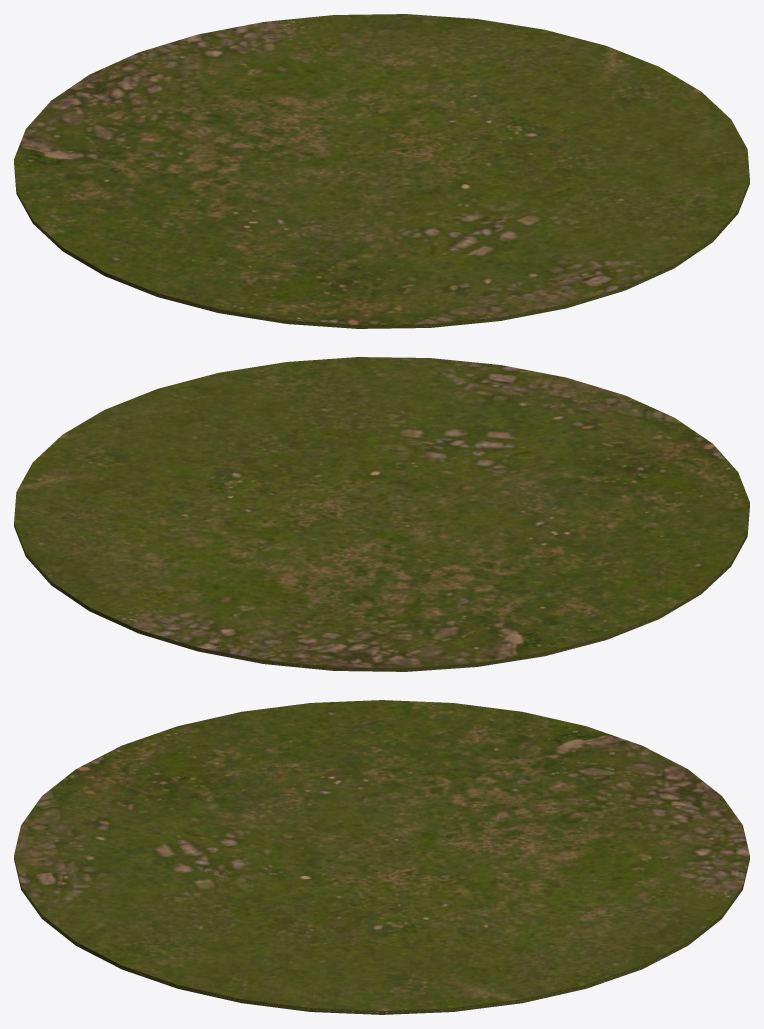
The model's file is Stage2.fbx.
The picture shows the model from 3 angles, top to bottom: view 1: azimuth 30°, elevation 25°; view 2: azimuth 150°, elevation 25°; view 3: azimuth 270°, elevation 25°; orthographic projection.
Visible parts, largest first — view 1: pCylinder3; view 2: pCylinder3; view 3: pCylinder3.
Boxes of the visible parts, x1=… form: pCylinder3: x1=14, y1=14, x2=749, y2=328; pCylinder3: x1=14, y1=357, x2=749, y2=671; pCylinder3: x1=14, y1=700, x2=749, y2=1014.
Size of the model in its own units: 18.37 by 0.1069 by 18.37.
1 material, 1 textured.
